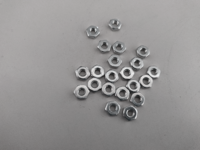nut: (105, 101, 121, 117), (123, 106, 138, 122), (74, 86, 90, 100), (102, 82, 116, 97), (76, 67, 90, 81), (88, 78, 102, 92), (105, 70, 119, 84), (131, 93, 145, 107), (116, 87, 130, 101), (130, 58, 144, 72), (147, 66, 161, 80), (97, 40, 112, 53), (108, 55, 123, 68), (120, 67, 135, 80), (86, 26, 100, 39), (91, 65, 105, 78), (113, 41, 127, 54), (127, 80, 141, 93), (140, 75, 153, 89), (137, 46, 150, 59), (109, 20, 122, 32)
